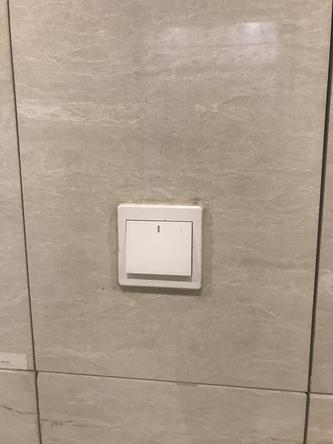switch: (124, 217, 193, 281)
